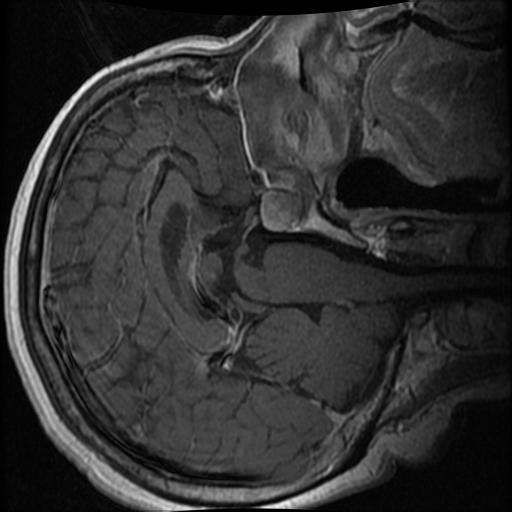pituitary tumour: (260, 191, 303, 234)
